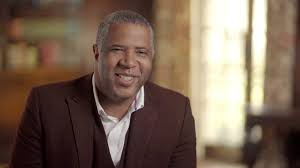black_male: (87, 25, 158, 106)
